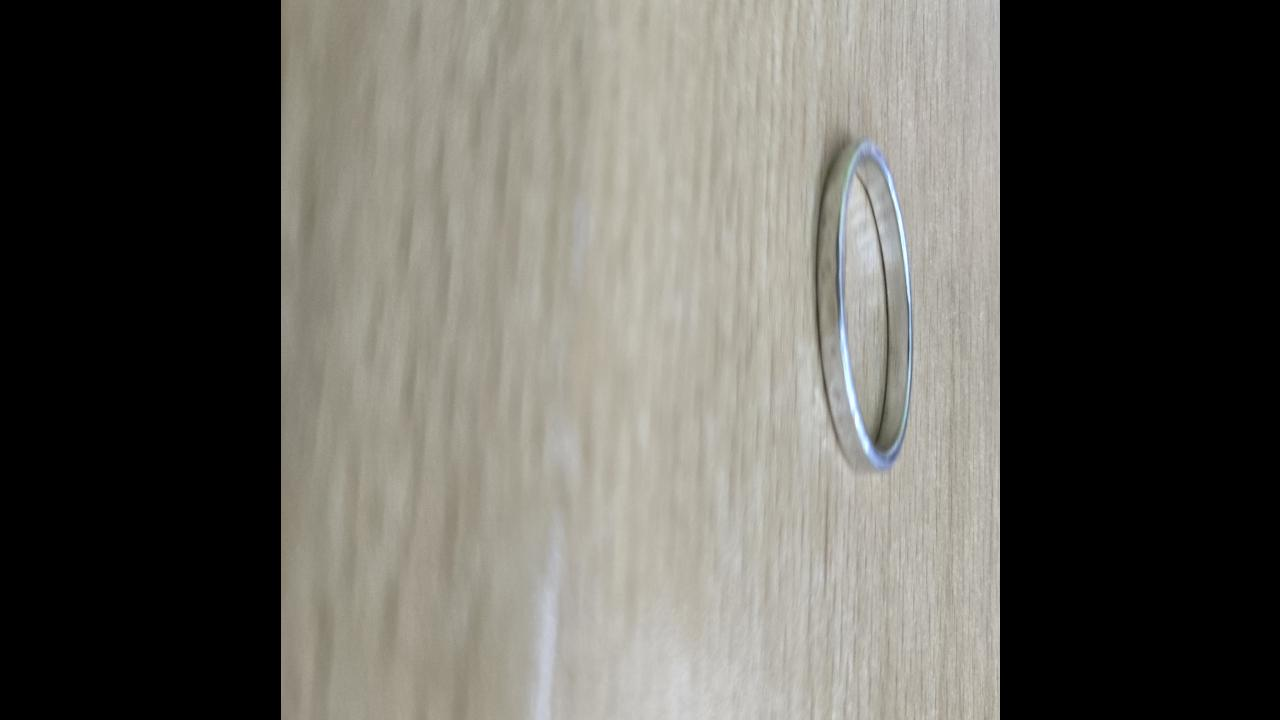ring: (812, 138, 914, 481)
